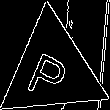P_NE: (27, 39, 77, 101)
